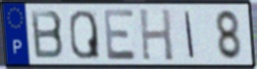8: (214, 9, 243, 62)
B: (29, 8, 66, 60)
E: (102, 7, 139, 62)
H: (138, 6, 176, 62)
I: (183, 10, 196, 60)
Q: (68, 8, 102, 61)
